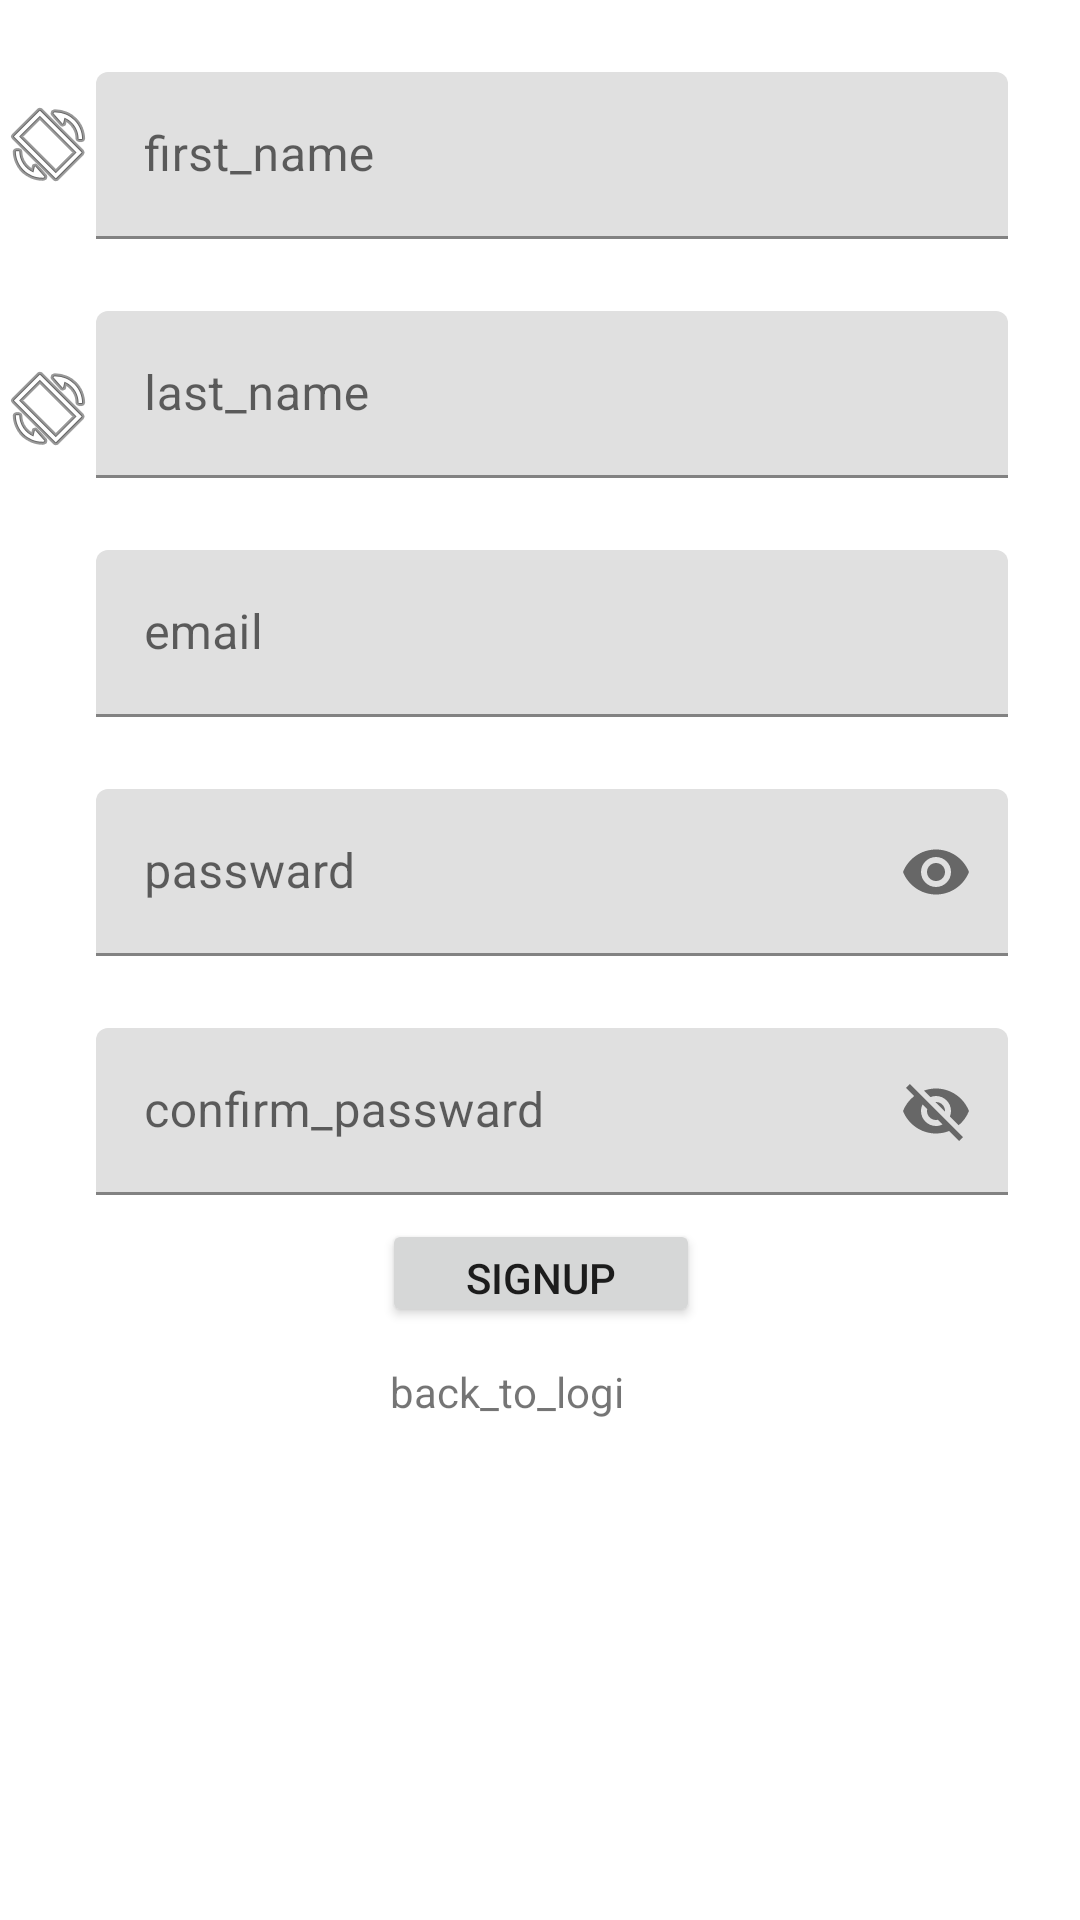

Locate icon controls on the screen. Image size 1080x1920, boxes as (x1, y1, x2, y2).
always landscape portrait: (11, 108, 85, 181), (11, 372, 85, 445)
